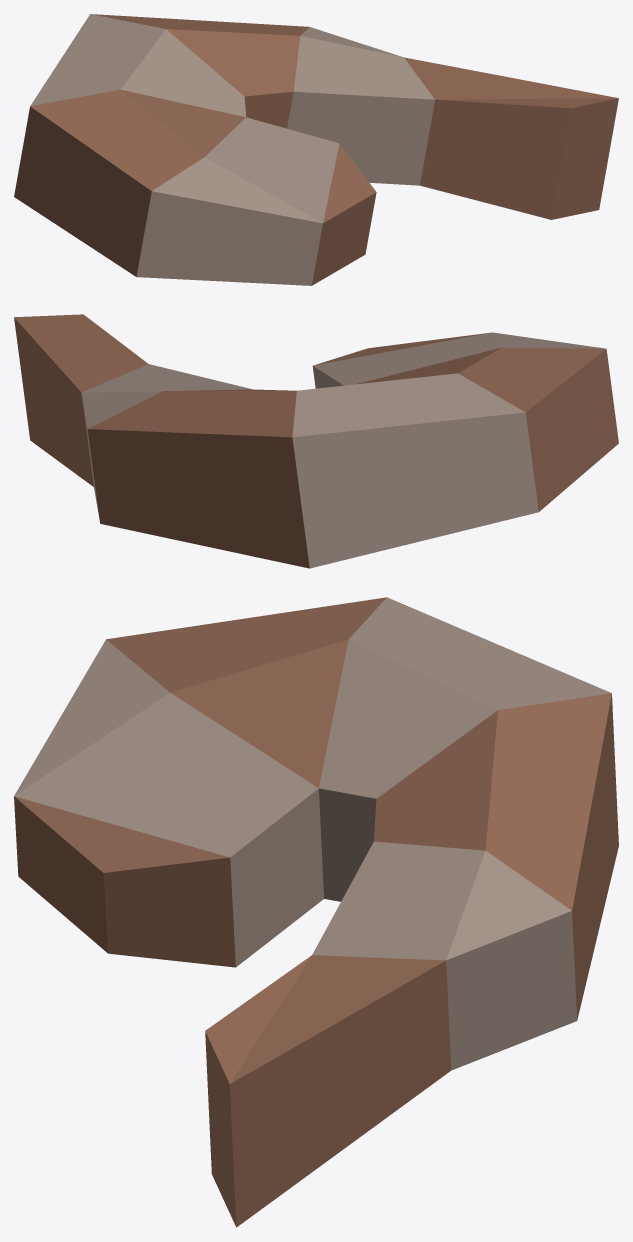
Rendered from Shrimp.fbx.
3 renders of one model, top to bottom at view 1: azimuth 30°, elevation 25°; view 2: azimuth 150°, elevation 25°; view 3: azimuth 270°, elevation 25°, orthographic. The views are drawn at different scales.
Parts seen in each view (by area): view 1: Shrimp; view 2: Shrimp; view 3: Shrimp.
Part boxes in pixels (x1,y1,x2,y2): Shrimp: (14,14,618,285); Shrimp: (14,314,618,568); Shrimp: (14,597,618,1227).
Size of the model in its own units: 21.95 by 7.61 by 14.75.
